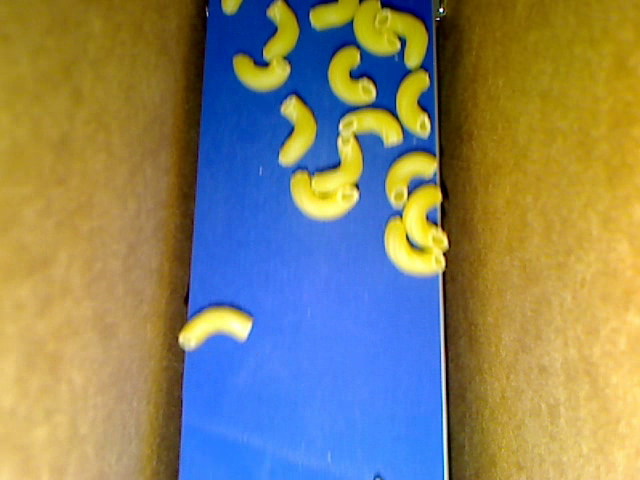elbow: (384, 215, 445, 279), (290, 167, 360, 222), (176, 305, 252, 350), (310, 131, 363, 194), (383, 151, 438, 211), (375, 8, 428, 69), (402, 183, 448, 253), (277, 94, 318, 167), (328, 45, 377, 105), (353, 1, 401, 57), (338, 107, 403, 148), (395, 70, 432, 139), (232, 52, 291, 92), (263, 1, 299, 63), (310, 1, 359, 32), (220, 1, 242, 17)
